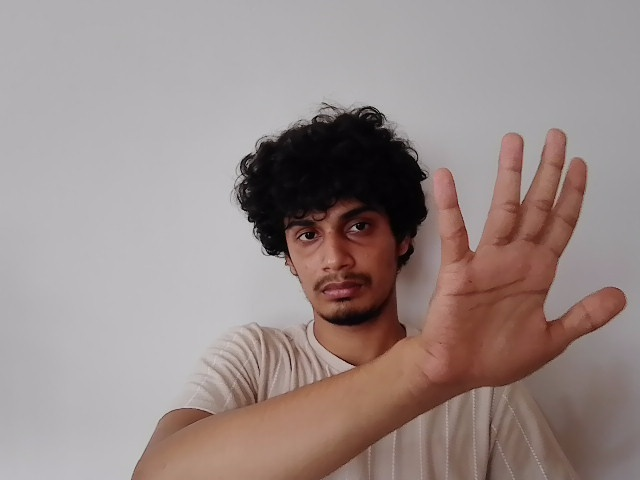goodbye: (433, 126, 630, 380)
